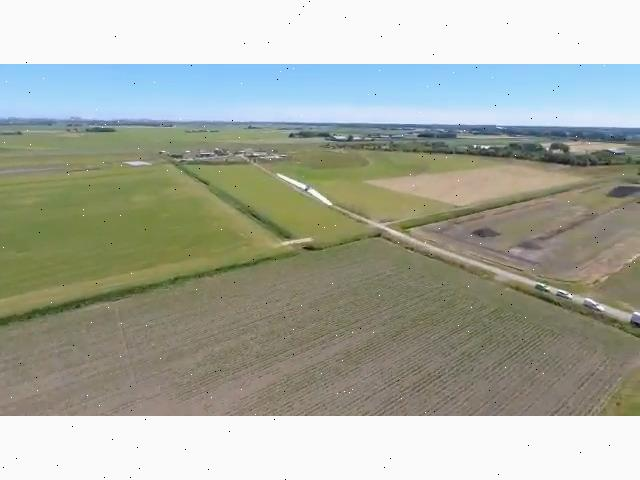Anti-Drone: (256, 158, 348, 218)
